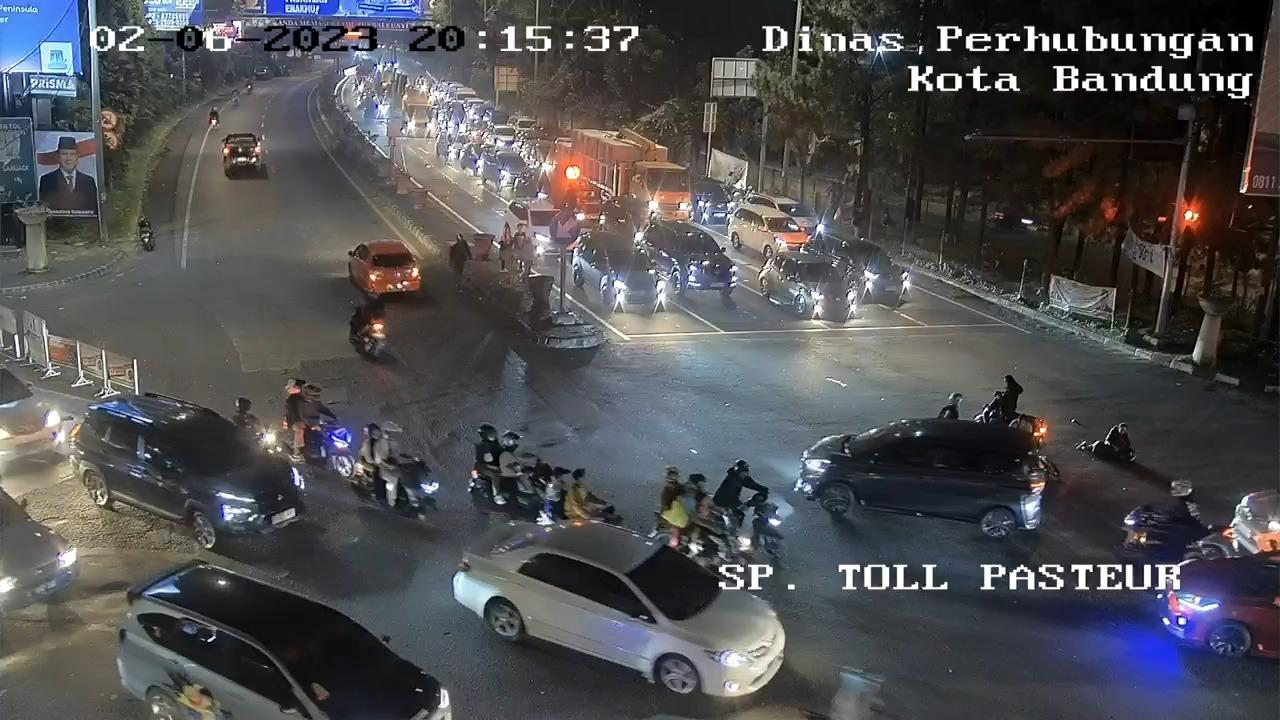accident: (1073, 421, 1157, 465)
